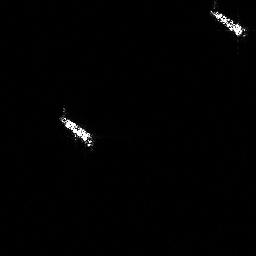ship: (61, 115, 95, 147), (210, 8, 245, 37)
